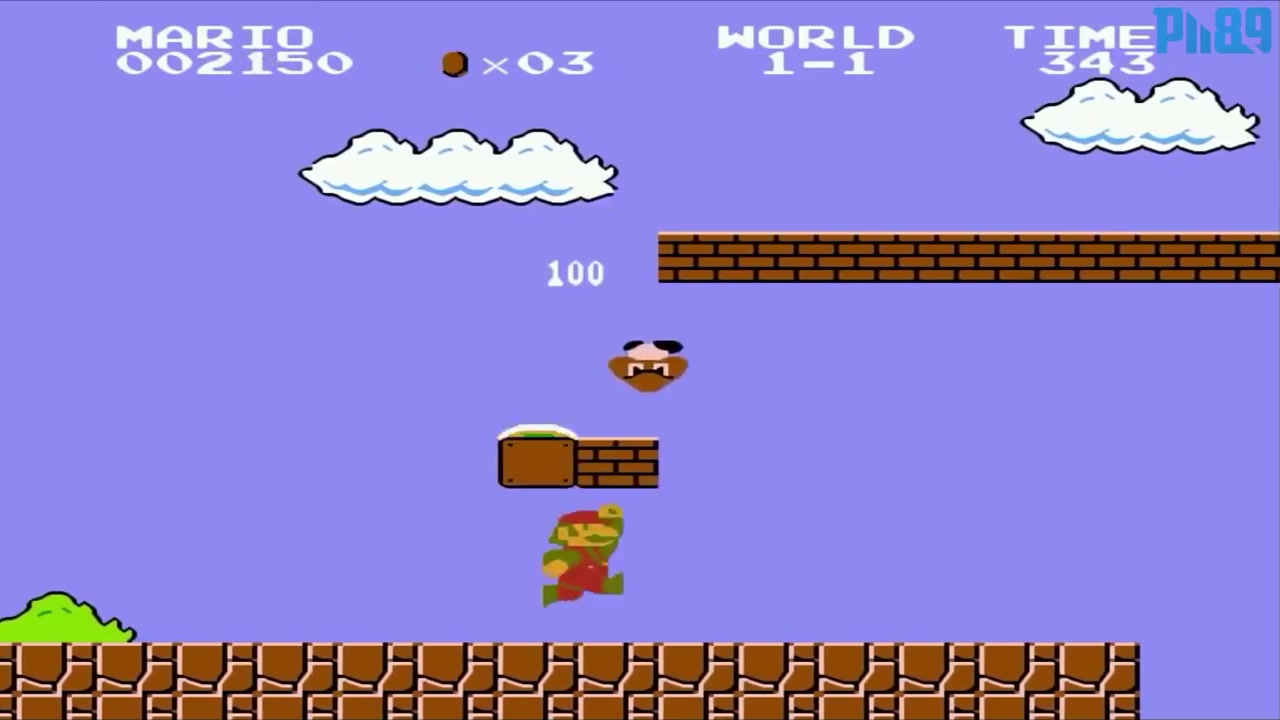mario: (536, 500, 641, 607)
